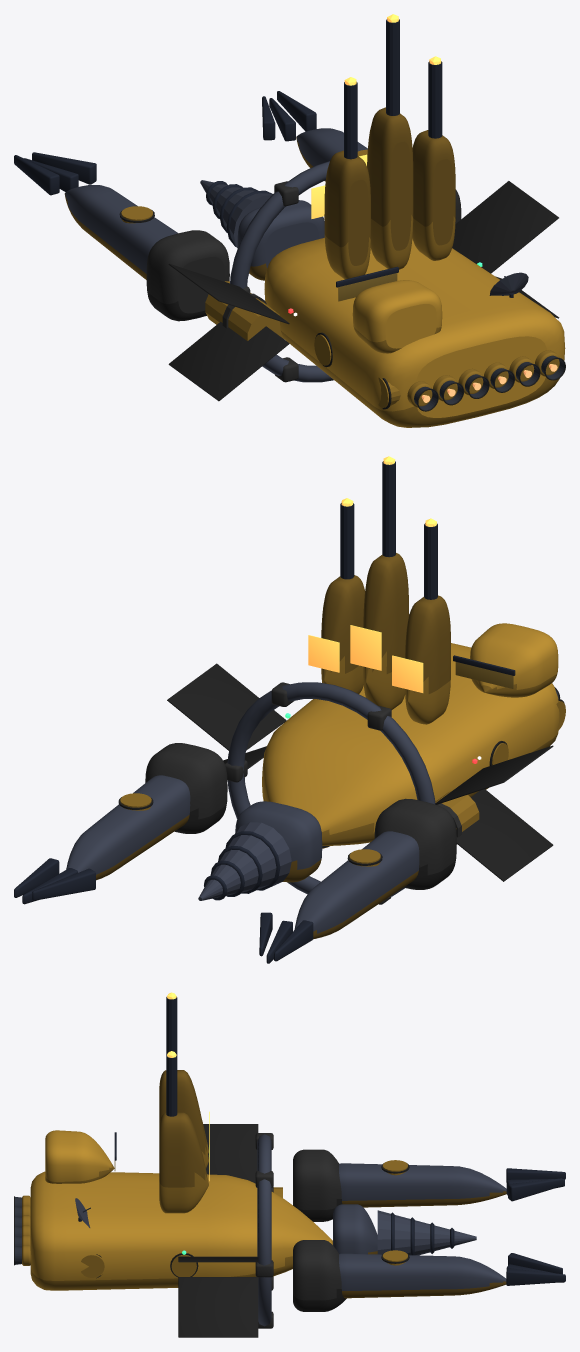
Rendered from starforge.glb.
3 renders of one model, top to bottom at view 1: azimuth 30°, elevation 25°; view 2: azimuth 150°, elevation 25°; view 3: azimuth 270°, elevation 25°, orthographic. The views are drawn at different scales.
Parts seen in each view (by area): view 1: starforge_mesh, radar_mesh; view 2: starforge_mesh; view 3: starforge_mesh.
Boxes of the visible parts, x1,y1,x2,y2 form: starforge_mesh: (14,14,565,427); radar_mesh: (489,272,528,297); starforge_mesh: (14,456,565,963); starforge_mesh: (14,992,565,1337).
Bounding box in the file's own units: 38.02 × 43.52 × 66.8.
